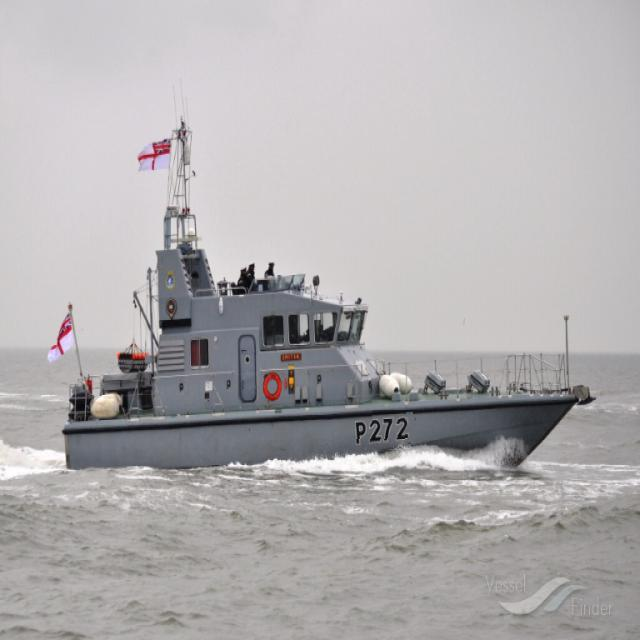OCR: (355, 410, 413, 451)
